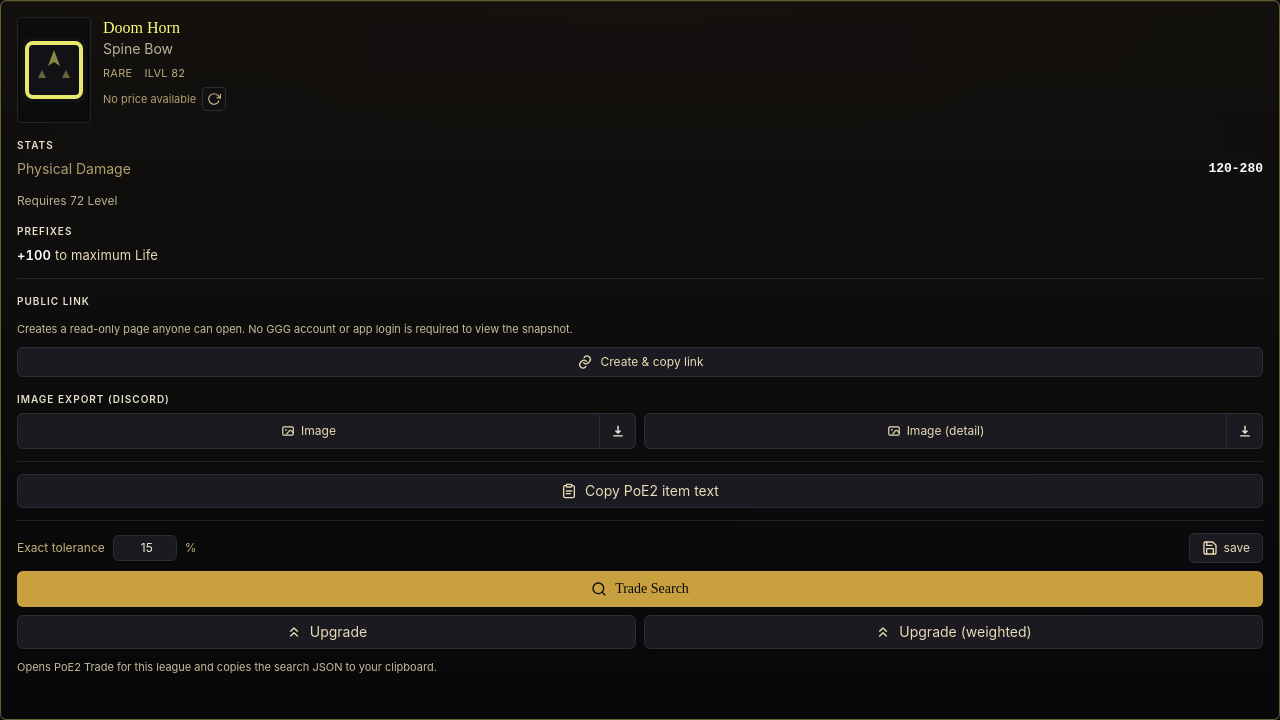
Test case: ItemDetailPane › requests PoE2 item text from the API and shows a success message
Step 1. Click the button "Copy PoE2 item text" → (640, 491), box [17,474,1263,508]
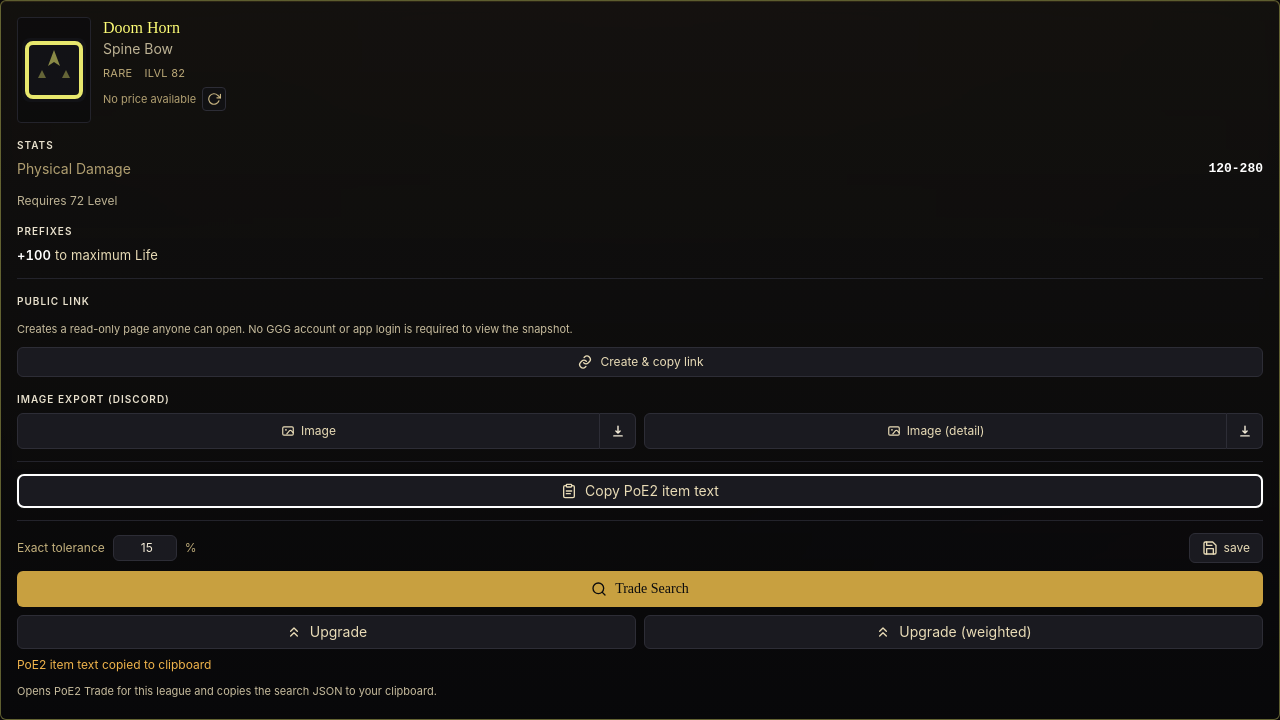
Now the text "PoE2 item text copied to clipboard" is shown, box [17,657,211,672]
